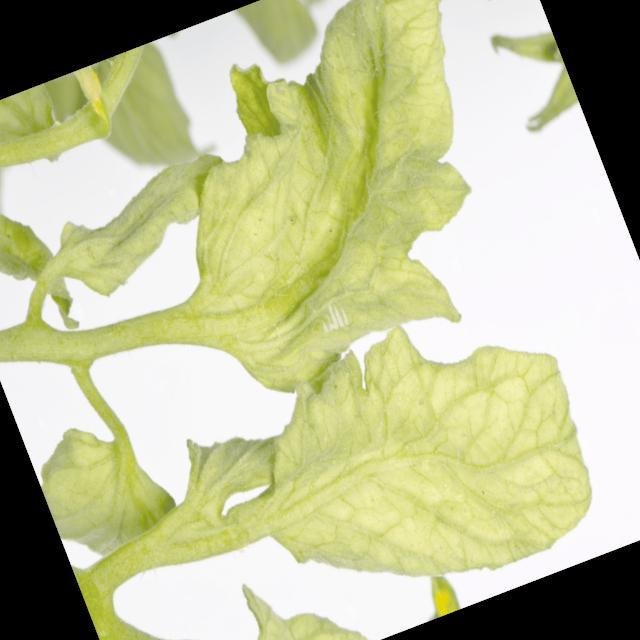Tomato mosaic virus leaf: (111, 0, 606, 411), (225, 274, 623, 640)
